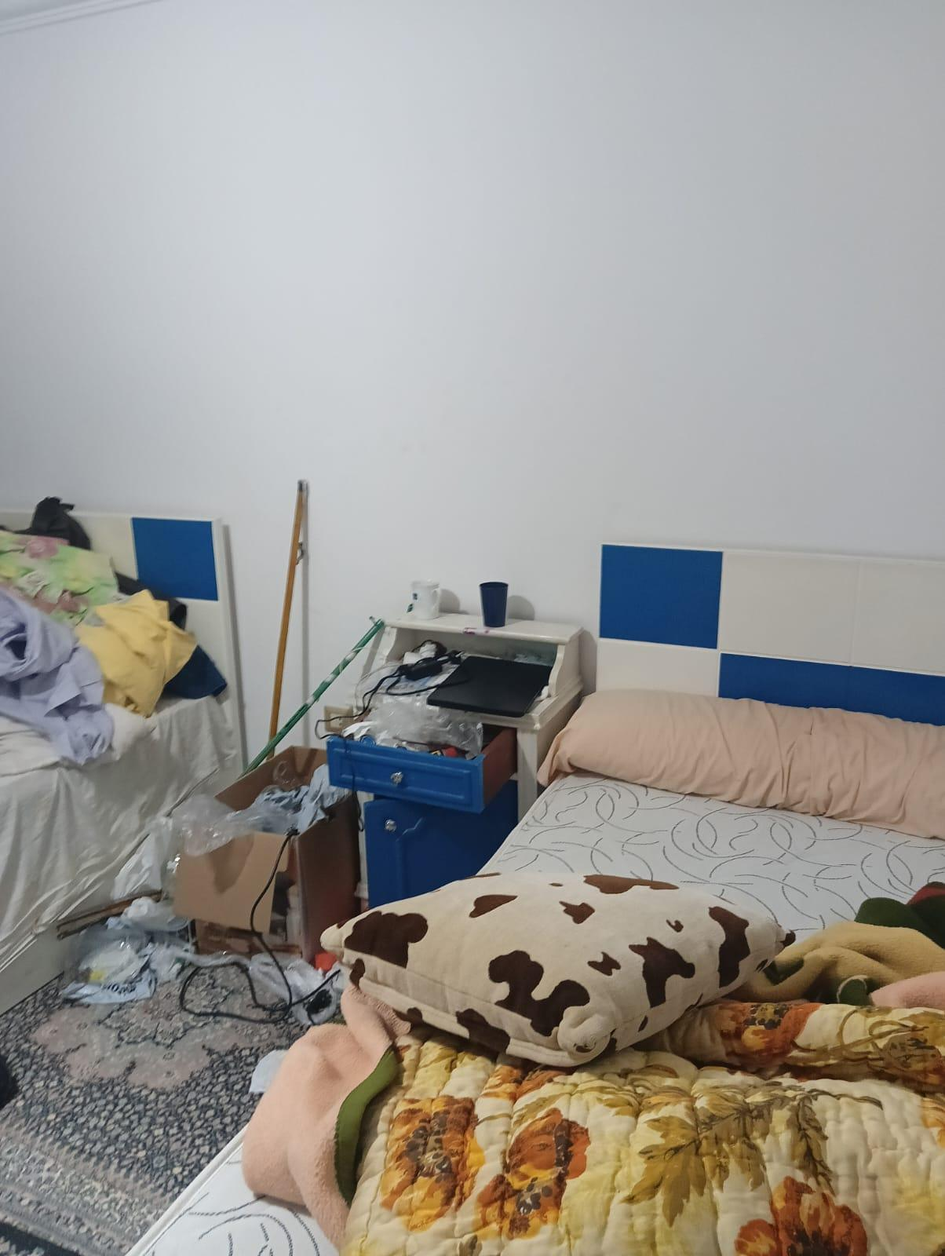cup: (480, 581, 508, 627), (411, 581, 440, 620)
